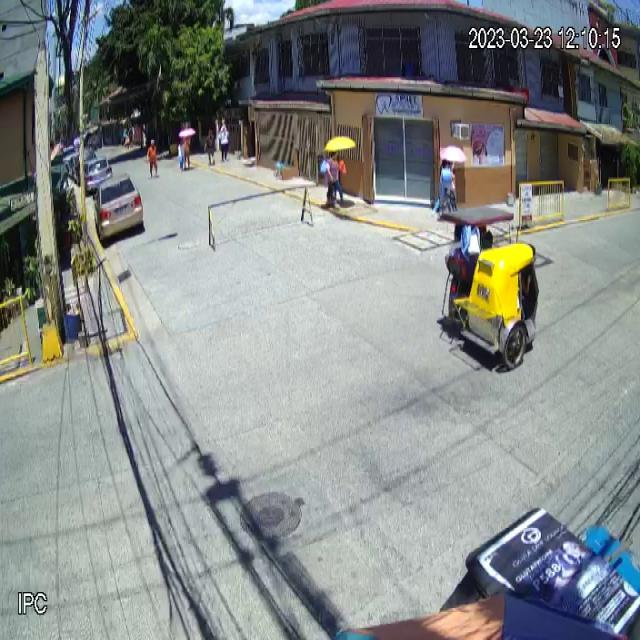Tricycle: (437, 206, 539, 368)
